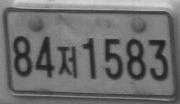1: (80, 37, 100, 79)
3: (147, 38, 169, 81)
4: (34, 36, 55, 78)
5: (103, 37, 124, 80)
8: (125, 37, 147, 80), (12, 35, 32, 77)
저: (57, 45, 77, 79)
